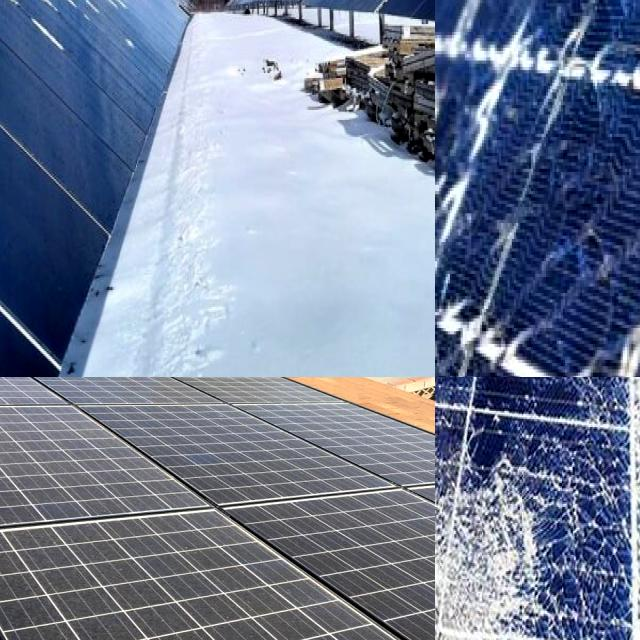dust: (27, 549, 255, 599), (314, 522, 435, 612), (82, 454, 172, 524), (0, 411, 53, 529), (71, 610, 279, 640)
hotspot: (435, 433, 542, 640), (435, 223, 577, 377), (435, 411, 517, 607), (550, 462, 625, 640), (599, 56, 640, 343)
panel: (12, 0, 98, 38), (30, 4, 74, 73), (0, 0, 80, 21), (118, 10, 148, 64), (101, 0, 169, 20), (0, 0, 33, 34), (0, 0, 21, 37), (0, 0, 17, 44)
